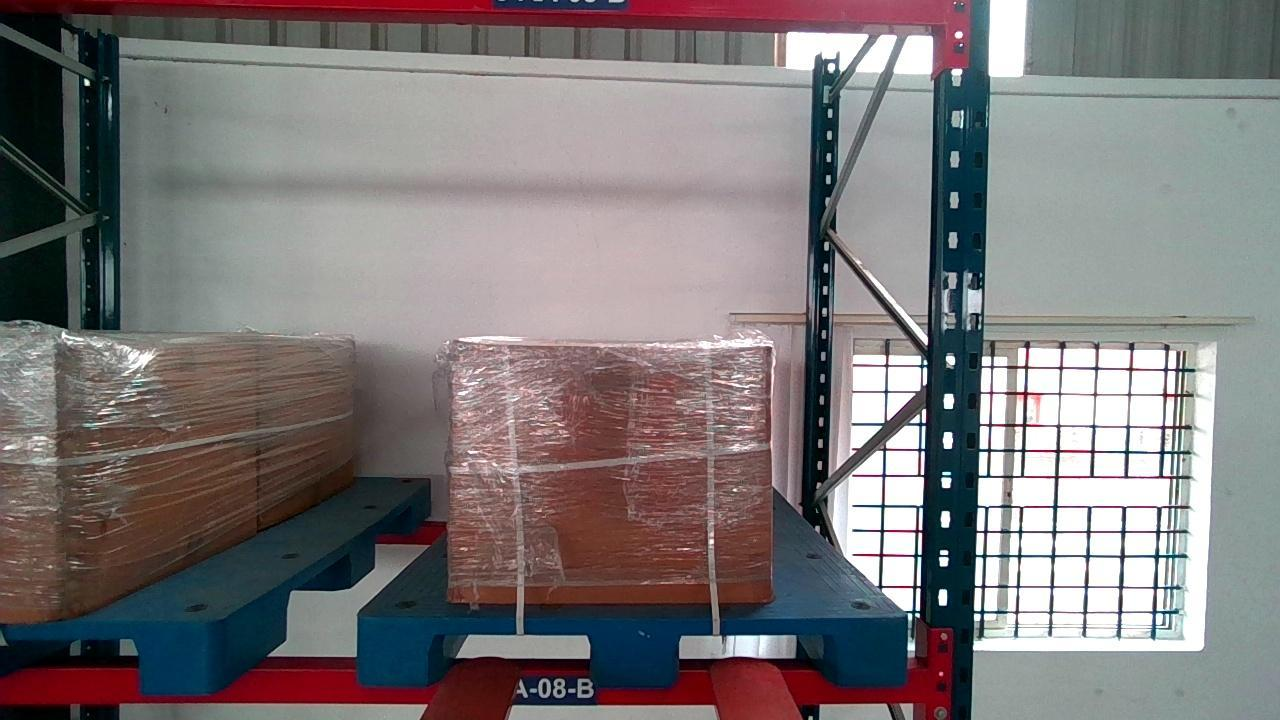h_rack: (0, 664, 927, 706)
small_pallet: (355, 615, 910, 684)
